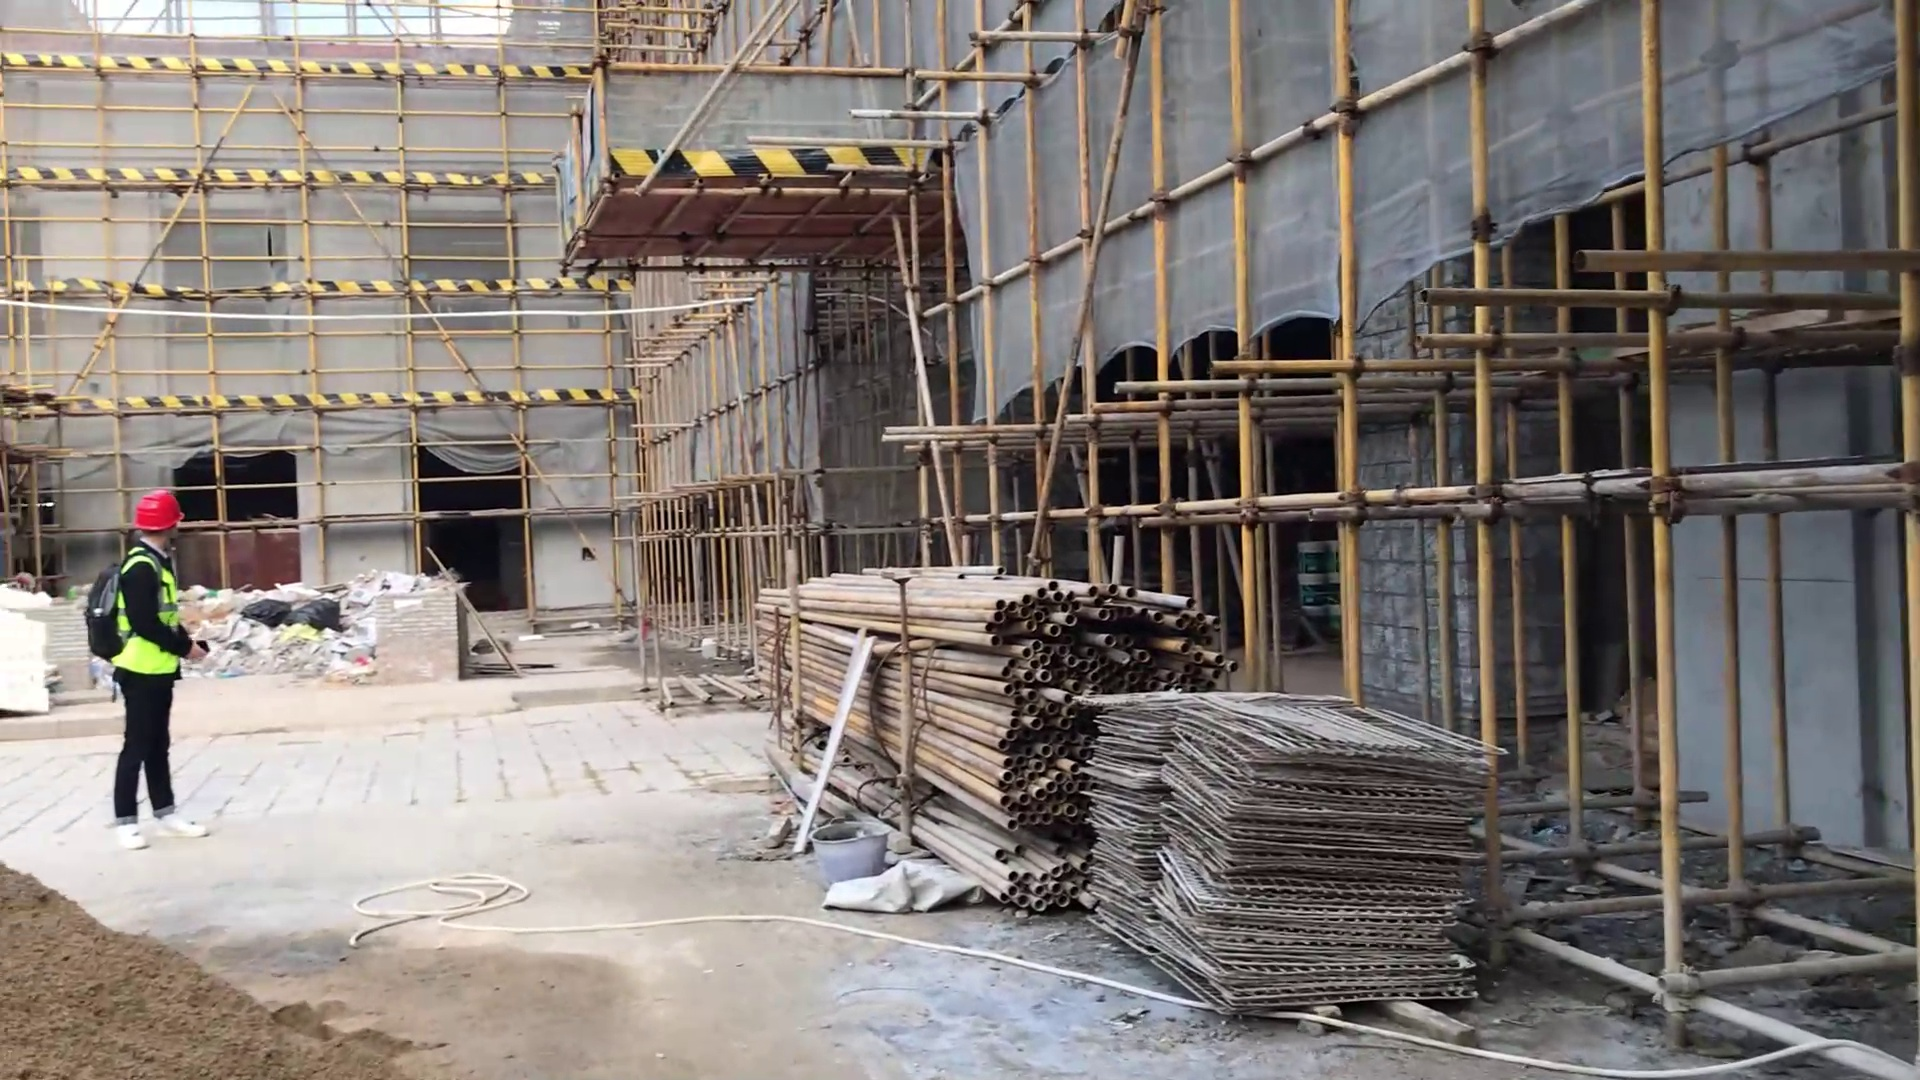helmet: (112, 482, 200, 541)
person: (74, 467, 215, 857)
vest: (99, 543, 192, 691)
